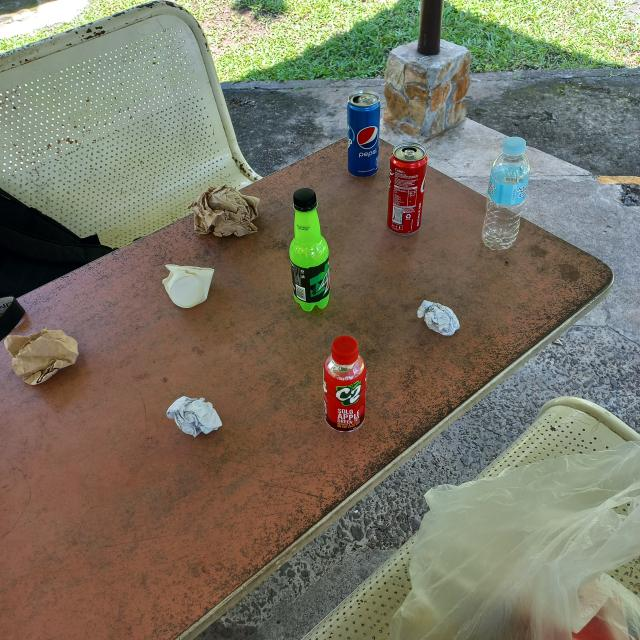Anorganik: (476, 132, 535, 255), (285, 185, 335, 314), (318, 332, 372, 435), (382, 137, 430, 239), (344, 84, 384, 181)
Organik: (183, 179, 266, 246), (1, 323, 83, 390), (162, 392, 226, 443), (158, 259, 218, 313), (413, 295, 464, 340)
